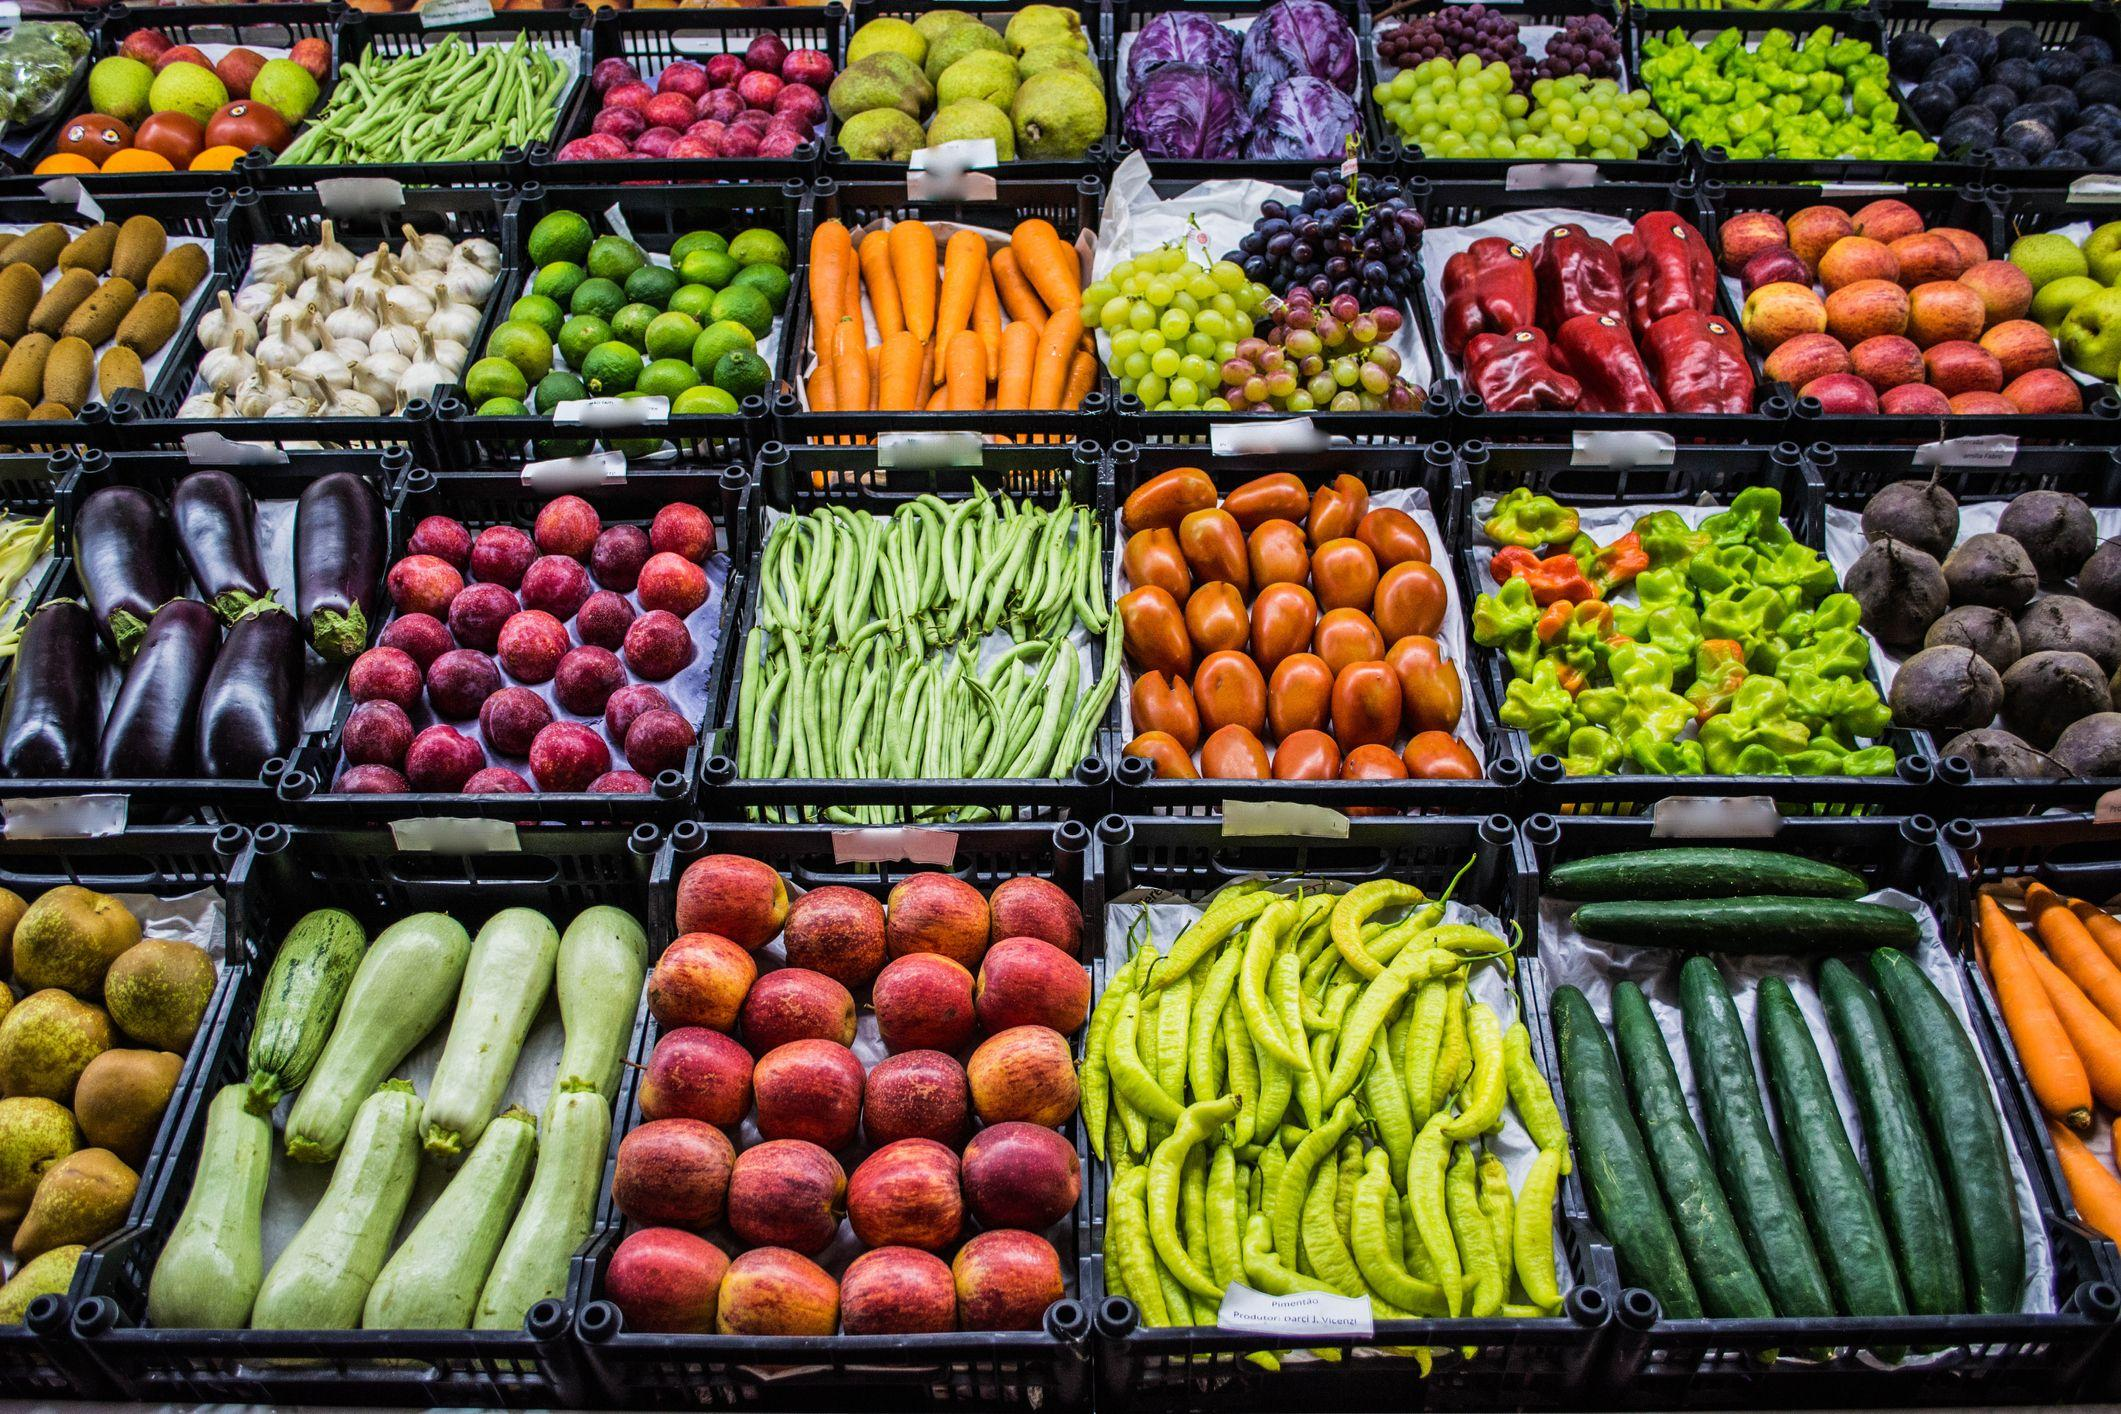carrot: (785, 176, 1086, 414), (1985, 845, 2121, 1236)
cucumber: (1538, 828, 2034, 1321)
eggplant: (16, 448, 396, 780)
garlic: (149, 209, 503, 428)
grapes: (1106, 177, 1423, 413), (1359, 0, 1676, 172)
green apple: (0, 878, 204, 1299), (841, 0, 1105, 168), (2002, 191, 2121, 385)
pomegranate: (124, 25, 331, 83), (64, 106, 285, 156)
red apple: (621, 843, 1087, 1332), (1722, 178, 2082, 421)
sweet pepper: (1434, 190, 1857, 767)
